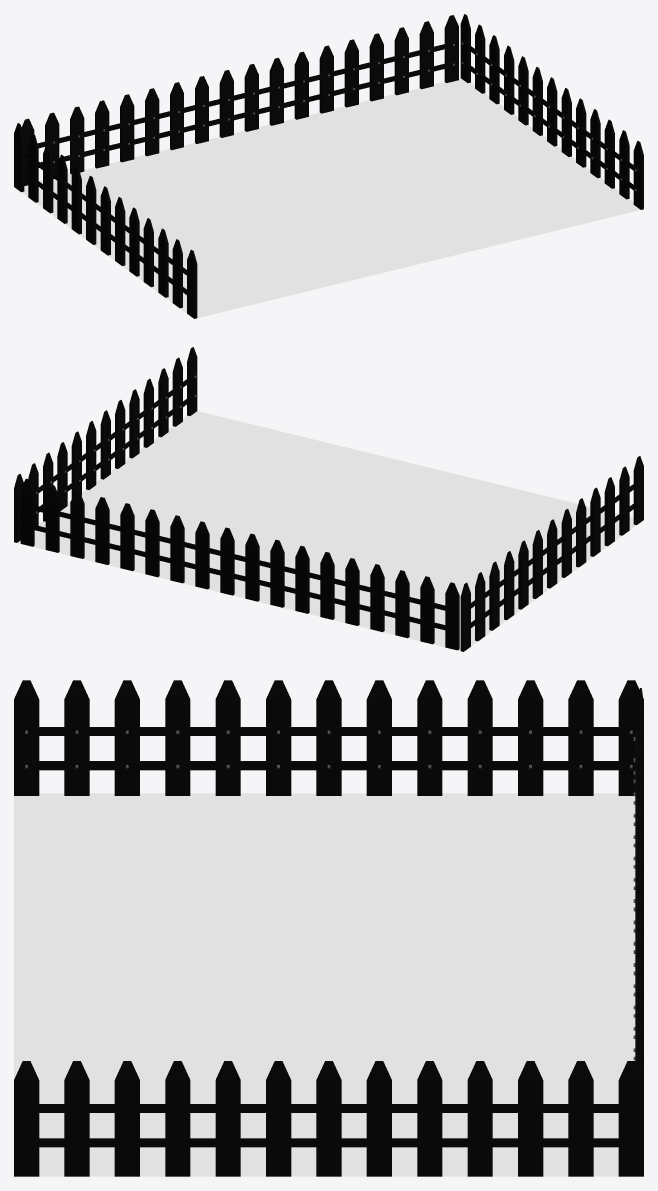
File: Jardin.fbx
The picture shows the model from 3 angles, top to bottom: view 1: azimuth 30°, elevation 25°; view 2: azimuth 150°, elevation 25°; view 3: azimuth 270°, elevation 25°; orthographic projection. The views are drawn at different scales.
Visible parts, largest first — view 1: Plane, Cube.074, Cube.073, Cube.072, Cube.079, Cube.080, Cube.075, Cube.076; view 2: Plane, Cube.074, Cube.073, Cube.072, Cube.079, Cube.080, Cube.075, Cube.076; view 3: Plane, Cube.072, Cube.073, Cube.078, Cube.077, Cube.076, Cube.074, Cube.075, Cube.079.
Part boxes in pixels (box(x1,y1,x2,y2)): Plane: box(21, 78, 640, 317); Cube.074: box(21, 15, 458, 185); Cube.073: box(14, 123, 197, 318); Cube.072: box(460, 14, 643, 209); Cube.079: box(24, 41, 455, 151); Cube.080: box(24, 61, 455, 171); Cube.075: box(461, 40, 639, 173); Cube.076: box(461, 59, 639, 193); Plane: box(17, 411, 636, 650); Cube.074: box(20, 478, 459, 650); Cube.073: box(460, 456, 643, 651); Cube.072: box(14, 347, 197, 542); Cube.079: box(34, 505, 445, 610); Cube.080: box(34, 525, 445, 630); Cube.075: box(19, 373, 196, 506); Cube.076: box(19, 392, 196, 526); Plane: box(14, 793, 635, 1176); Cube.072: box(14, 1061, 643, 1176); Cube.073: box(14, 680, 643, 795); Cube.078: box(19, 761, 635, 770); Cube.077: box(19, 727, 636, 735); Cube.076: box(39, 1138, 618, 1147); Cube.074: box(633, 688, 643, 1079); Cube.075: box(39, 1104, 618, 1112); Cube.079: box(635, 731, 637, 1065).
Size of the model in its own units: 720 by 500 by 100.
